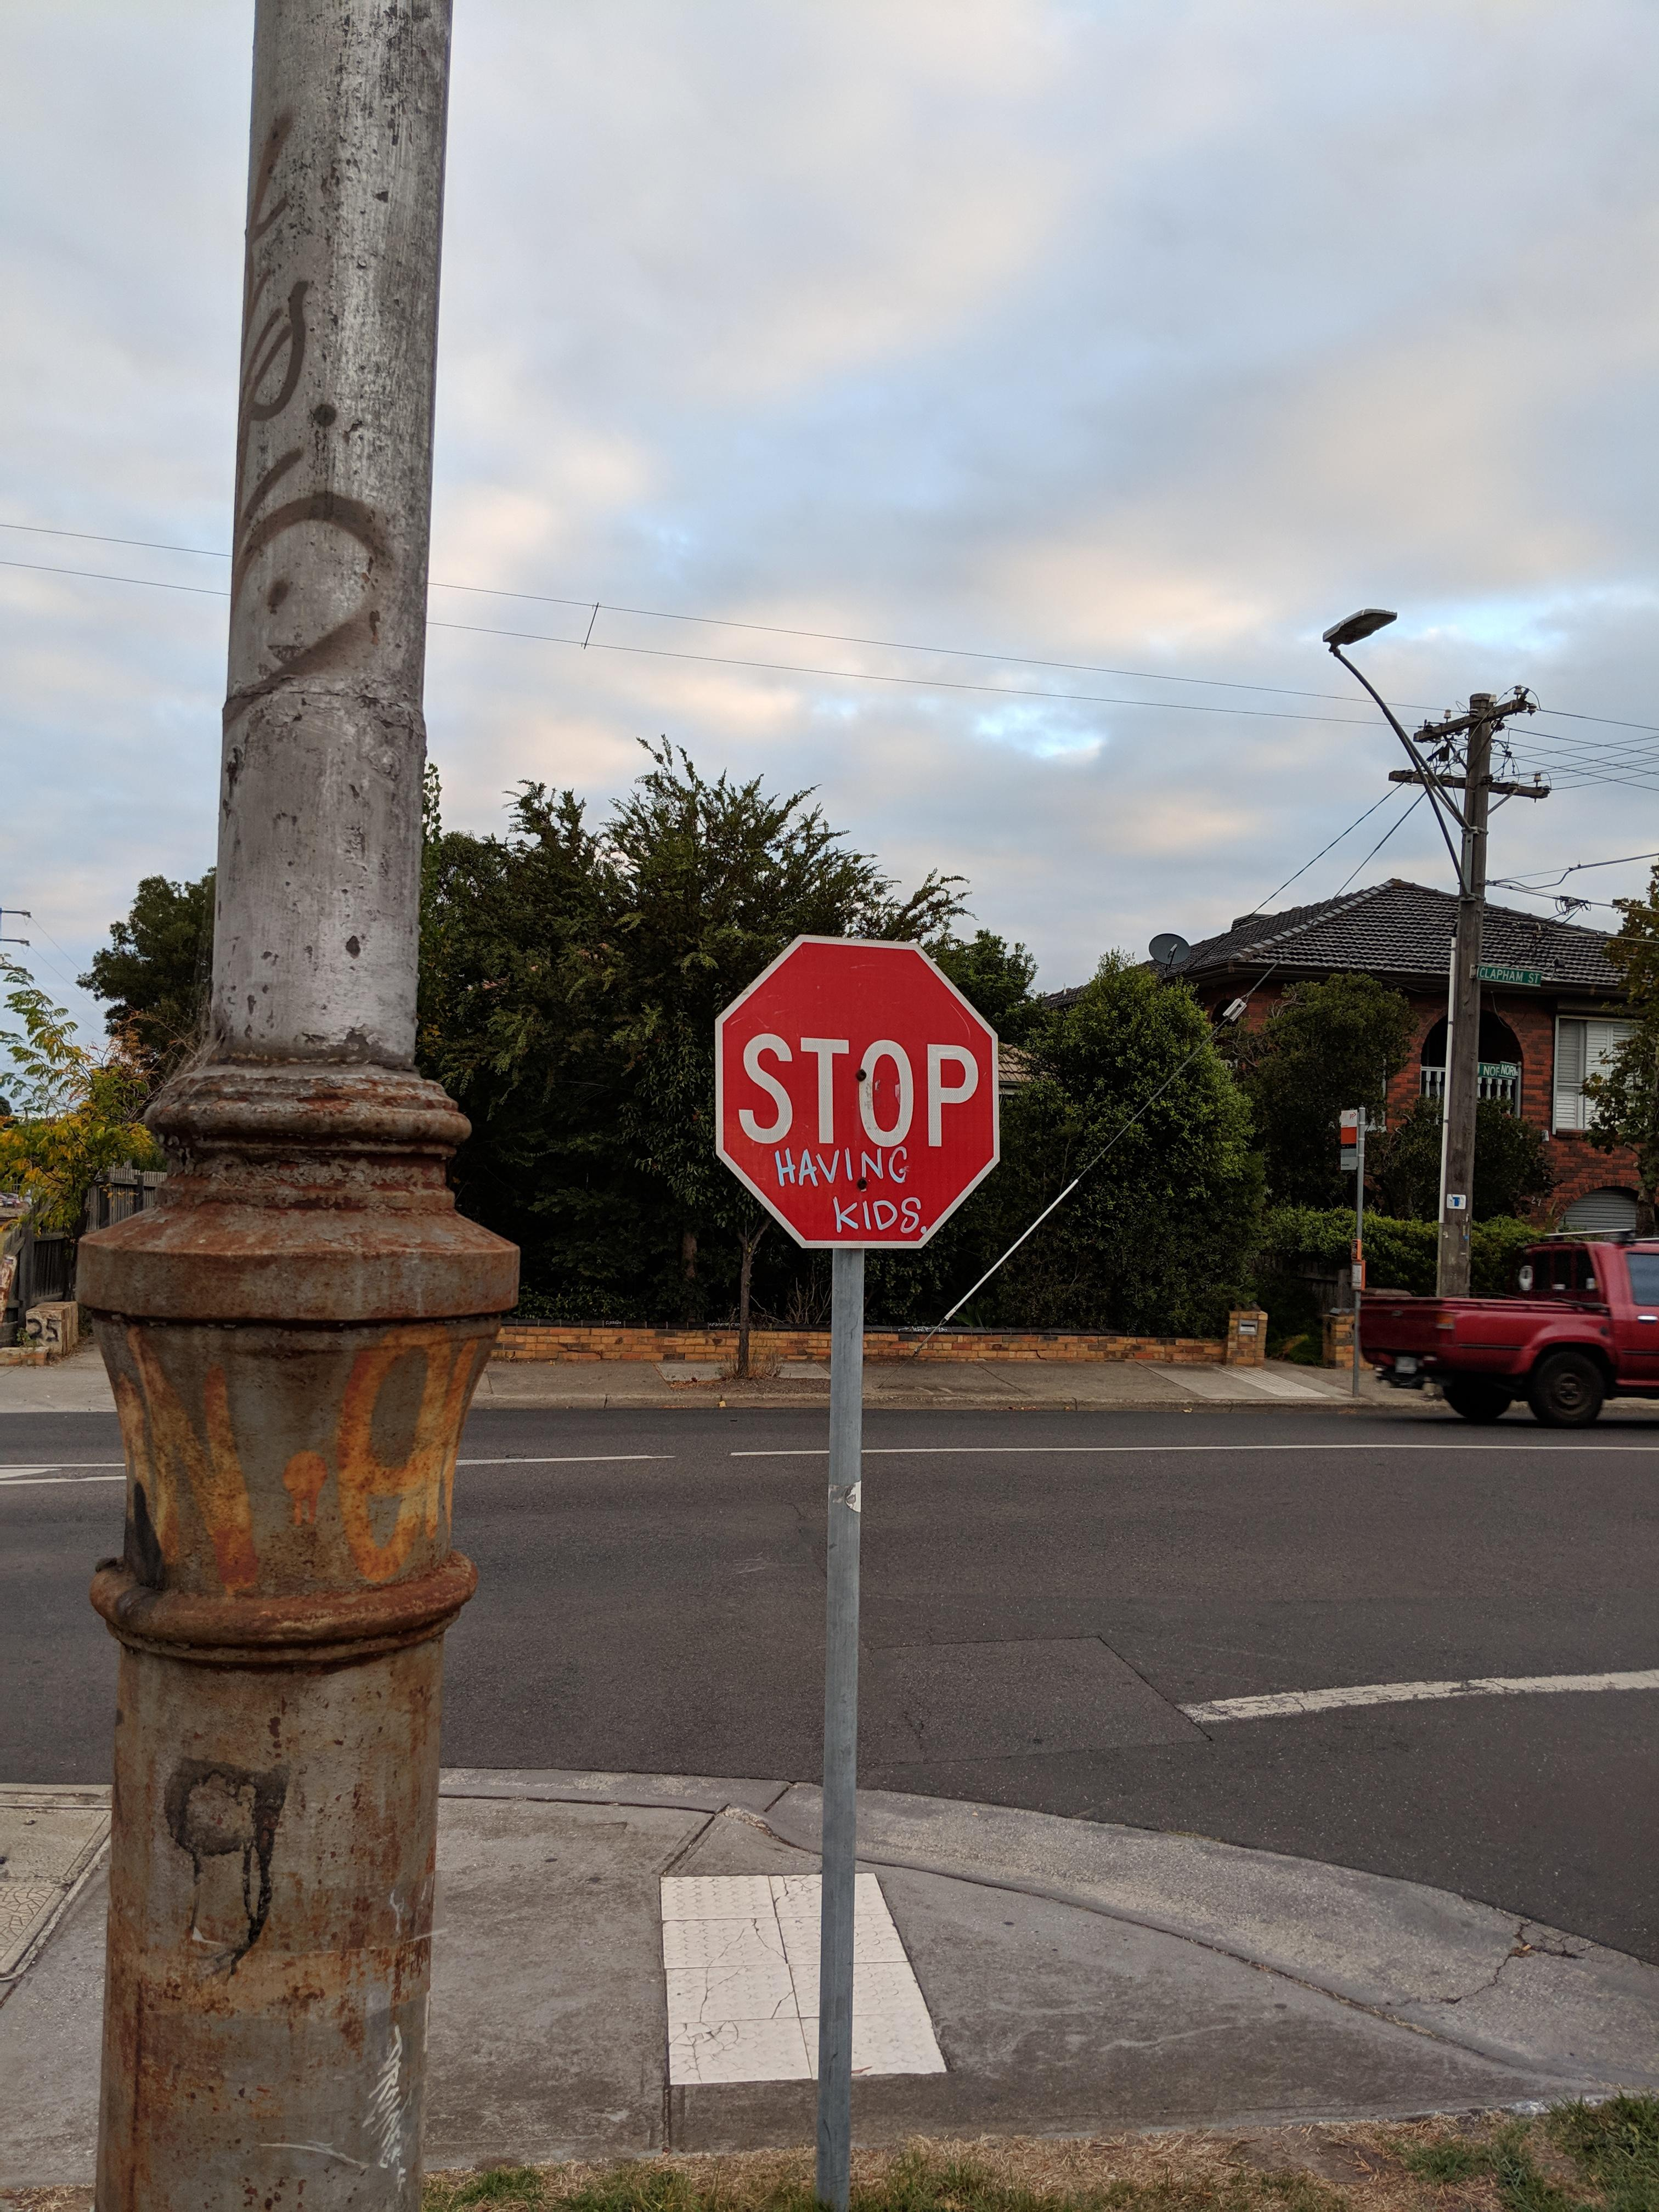stop: (706, 932, 1023, 1256)
